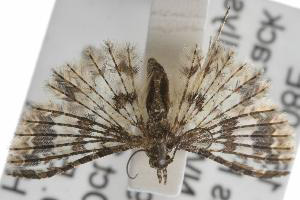Alucitidae: (5, 6, 295, 186)
moth: (7, 8, 297, 188)
